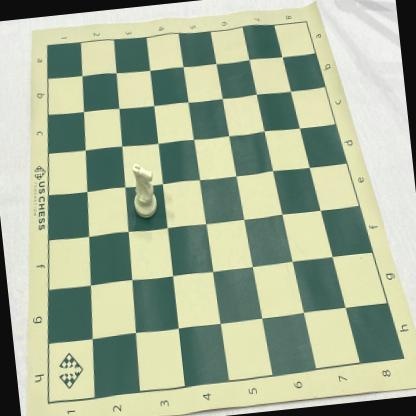white-knight: (129, 160, 160, 220)
